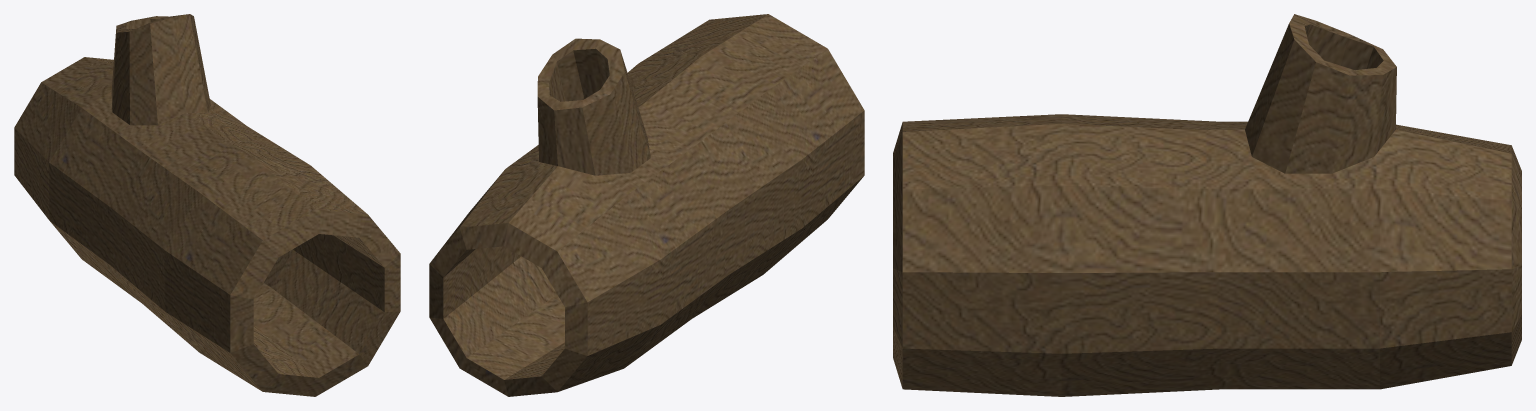
File: log.glb
The picture shows the model from 3 angles, left to right: view 1: azimuth 30°, elevation 25°; view 2: azimuth 150°, elevation 25°; view 3: azimuth 270°, elevation 25°; orthographic projection. The views are drawn at different scales.
Parts seen in each view (by area): view 1: Cylinder; view 2: Cylinder; view 3: Cylinder.
Boxes of the visible parts, x1=… form: Cylinder: x1=14, y1=14, x2=400, y2=396; Cylinder: x1=429, y1=14, x2=864, y2=396; Cylinder: x1=893, y1=14, x2=1521, y2=396.
Bounding box in the file's own units: 19.08 × 28.03 × 43.78.
Materials: 1 (1 with a texture image).
